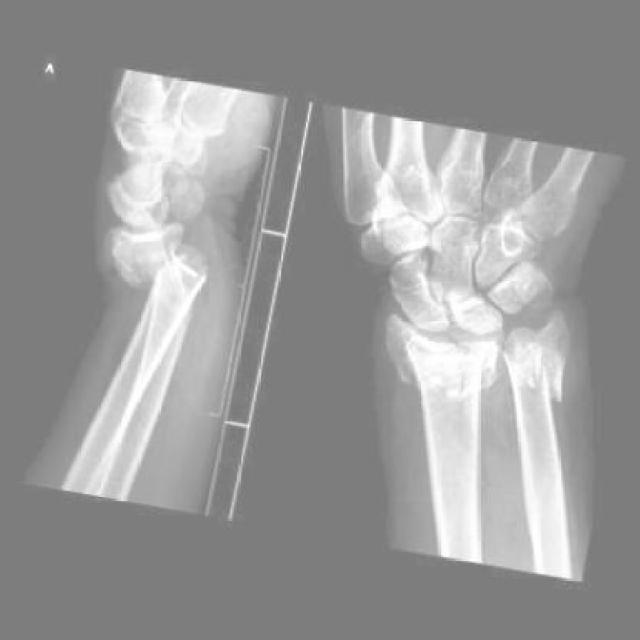Fracture: (383, 317, 505, 402), (495, 337, 580, 403), (115, 242, 208, 296), (143, 259, 216, 307)
